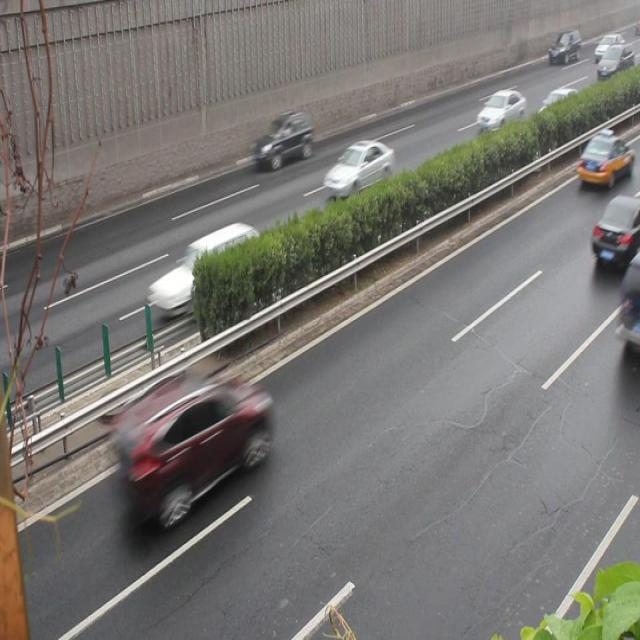car: (113, 372, 268, 522), (152, 224, 262, 316), (322, 139, 393, 201), (589, 194, 640, 270), (251, 110, 312, 171), (576, 134, 632, 188), (531, 89, 582, 137), (474, 90, 524, 136)
